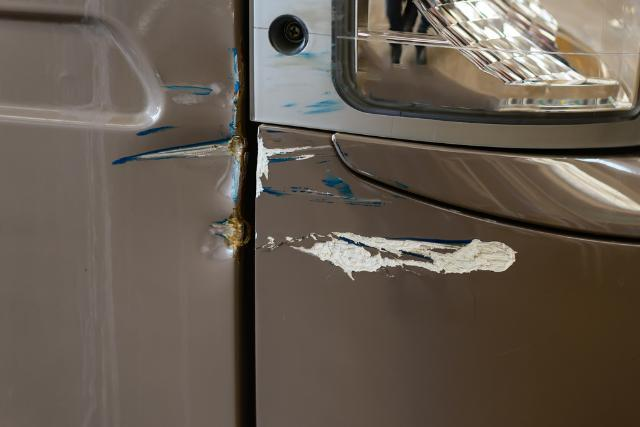dent: (143, 122, 244, 259)
scratch: (255, 125, 526, 285), (108, 42, 241, 168), (277, 46, 344, 120)
